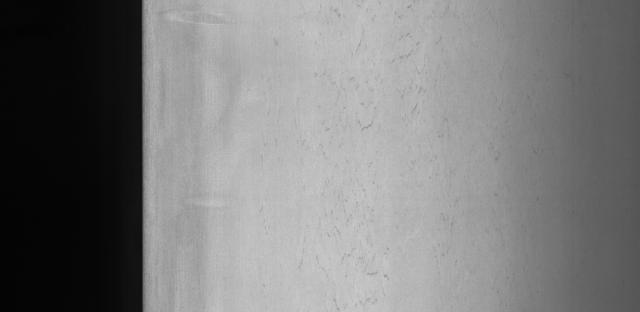silk_spot: (297, 9, 486, 306)
